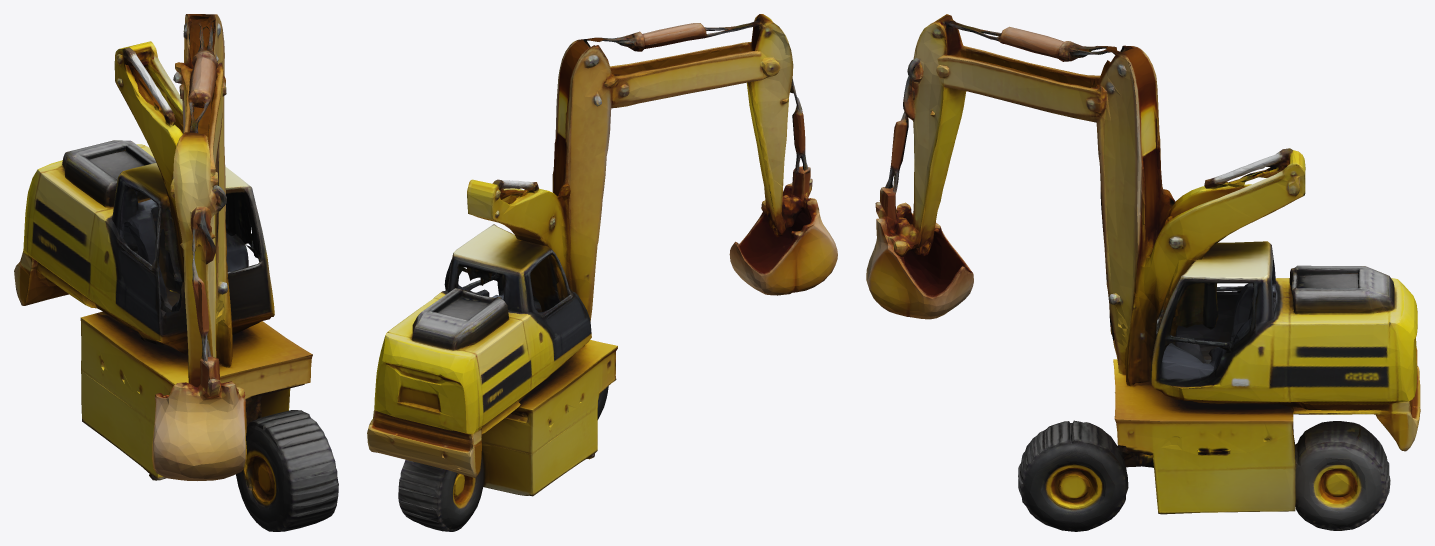
Rendered from 3D morph_ digger to build 2.glb.
The picture shows the model from 3 angles, left to right: view 1: azimuth 30°, elevation 25°; view 2: azimuth 150°, elevation 25°; view 3: azimuth 270°, elevation 25°; orthographic projection. The views are drawn at different scales.
Visible parts, largest first — view 1: world; view 2: world; view 3: world.
Boxes of the visible parts, left/top/right/bottom form: world: left=14, top=14, right=338, bottom=531; world: left=367, top=14, right=837, bottom=531; world: left=866, top=14, right=1420, bottom=531.
Size of the model in its own units: 0.5208 by 0.8912 by 0.9962.
Materials: 1 (1 with a texture image).
